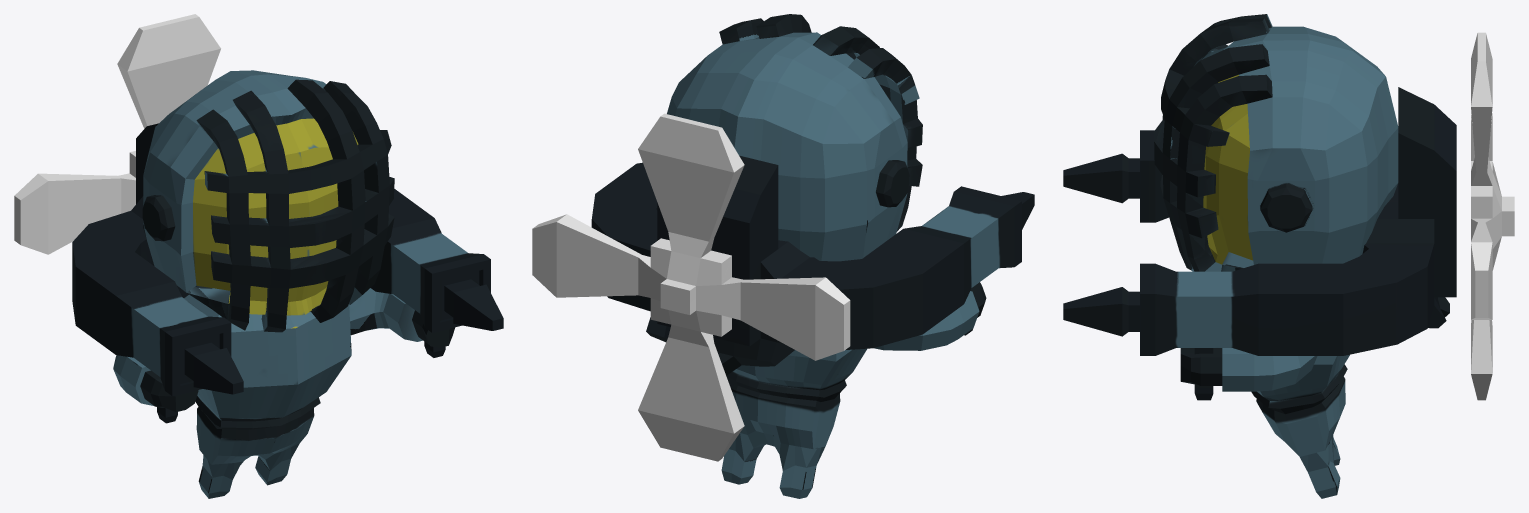
The model's file is astroteub.fbx.
The picture shows the model from 3 angles, left to right: view 1: azimuth 30°, elevation 25°; view 2: azimuth 150°, elevation 25°; view 3: azimuth 270°, elevation 25°; orthographic projection. The views are drawn at different scales.
Parts seen in each view (by area): view 1: guy, backpack, helice; view 2: guy, helice, backpack; view 3: guy, backpack, helice.
Part boxes in pixels (box(x1,y1,x2,y2)): guy: box(113, 70, 455, 498); backpack: box(72, 123, 503, 423); helice: box(14, 14, 220, 254); guy: box(667, 14, 986, 498); helice: box(532, 113, 850, 461); backpack: box(591, 155, 1034, 375); guy: box(1154, 14, 1398, 498); backpack: box(1063, 87, 1456, 400); helice: box(1471, 32, 1514, 400).
Bounding box in the file's own units: 354 × 452 × 413.
